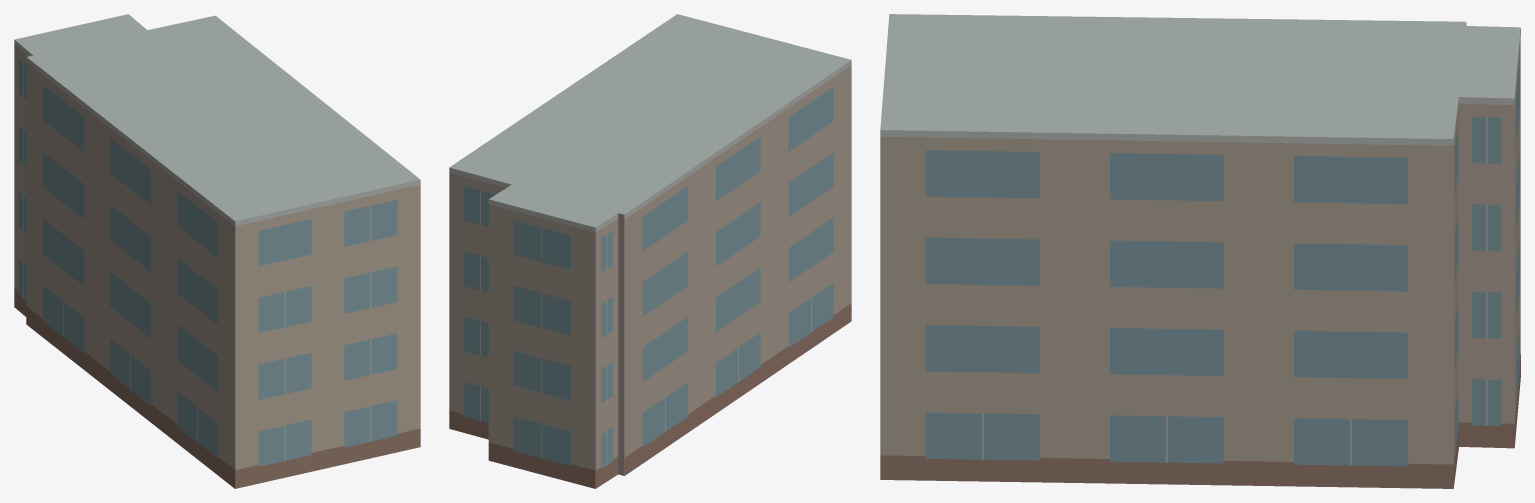
Rendered from survey-upis-32659751.glb.
3 views of the same model, side by side, from view 1: azimuth 30°, elevation 25°; view 2: azimuth 150°, elevation 25°; view 3: azimuth 270°, elevation 25° (orthographic). The views are drawn at different scales.
Parts seen in each view (by area): view 1: survey-upis-32659751.tmp; view 2: survey-upis-32659751.tmp; view 3: survey-upis-32659751.tmp.
Part boxes in pixels (box(x1,y1,x2,y2)): survey-upis-32659751.tmp: box(14, 14, 420, 488); survey-upis-32659751.tmp: box(449, 14, 851, 488); survey-upis-32659751.tmp: box(880, 14, 1520, 488).
Size of the model in its own units: 9.83 by 12.8 by 21.26.
